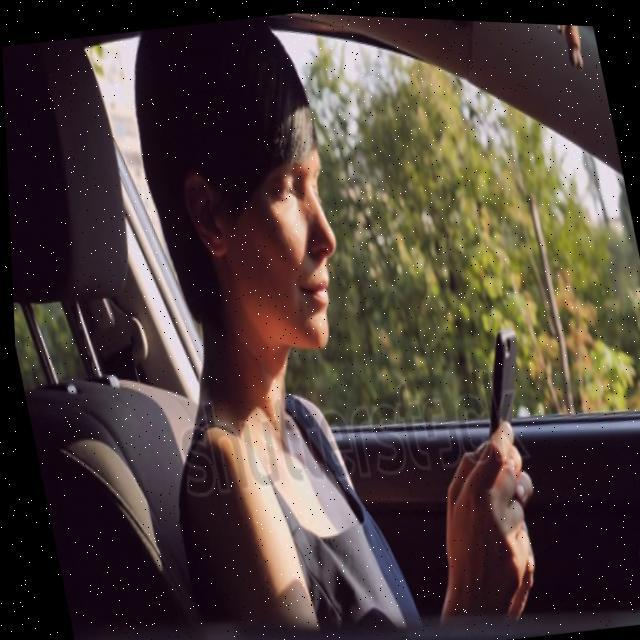PhoneCall: (469, 319, 535, 442)
